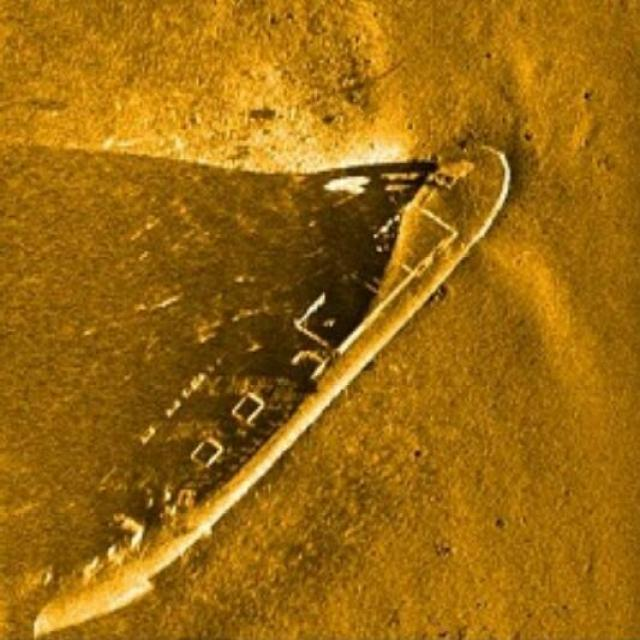shipwreck: (34, 140, 512, 634)
